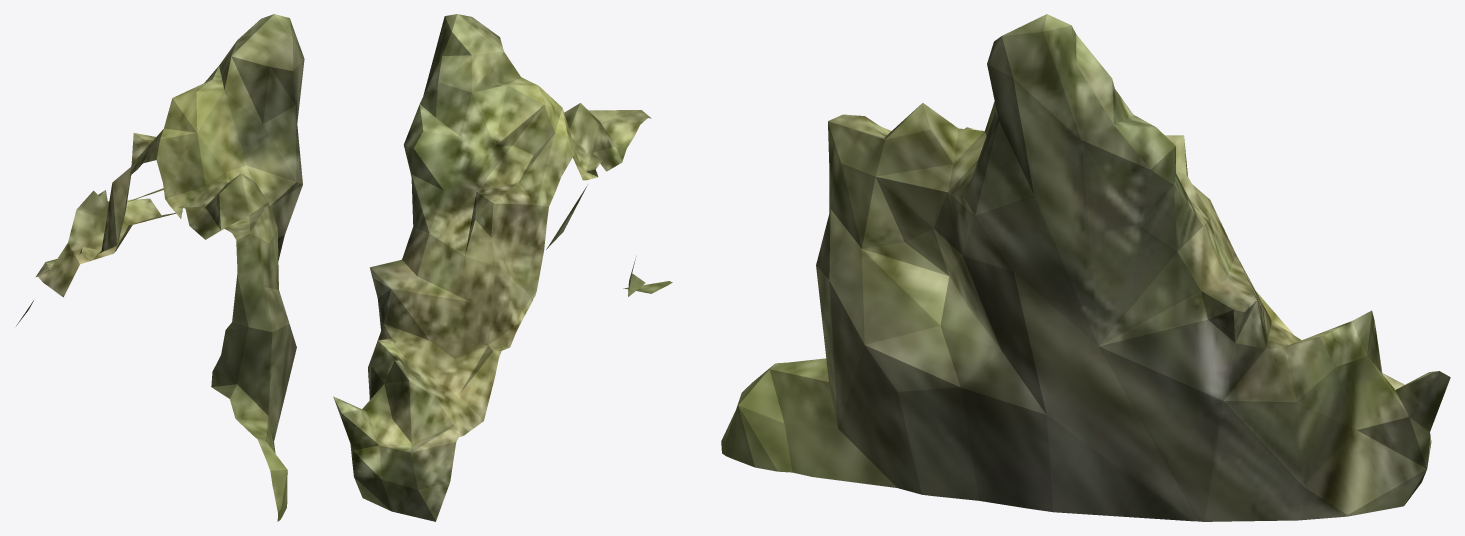
3 renders of one model, left to right at view 1: azimuth 30°, elevation 25°; view 2: azimuth 150°, elevation 25°; view 3: azimuth 270°, elevation 25°, orthographic. The views are drawn at different scales.
Size of the model in its own units: 0.9694 by 2.54 by 3.25.
Materials: 1 (1 with a texture image).
